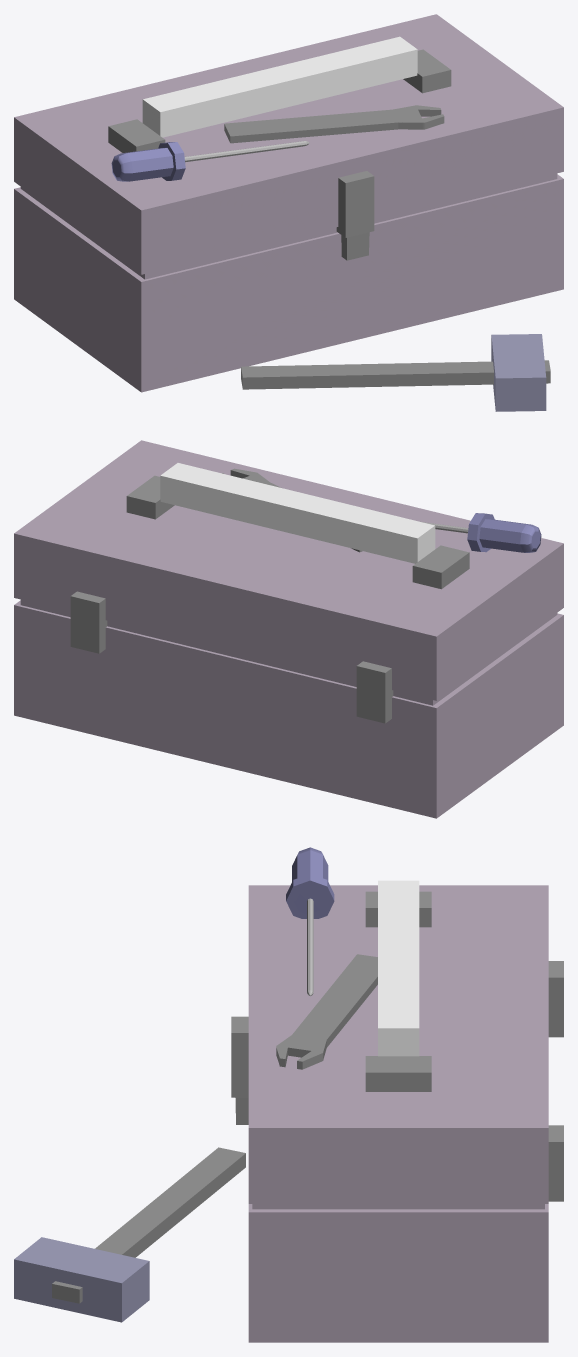
The model's file is ToolBox.gltf.
3 views of the same model, one above another, from view 1: azimuth 30°, elevation 25°; view 2: azimuth 150°, elevation 25°; view 3: azimuth 270°, elevation 25° (orthographic). The views are drawn at different scales.
Visible parts, largest first — view 1: polySurface9; view 2: polySurface9; view 3: polySurface9.
Boxes of the visible parts, <box> form: polySurface9: <box>14,14,563,411</box>; polySurface9: <box>14,440,563,818</box>; polySurface9: <box>14,847,563,1342</box>.
Bounding box in the file's own units: 294 × 161 × 281.
